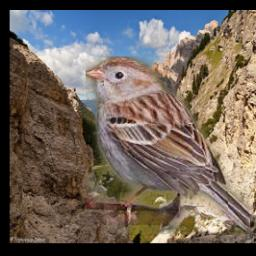Sparrow: (87, 57, 251, 235)
